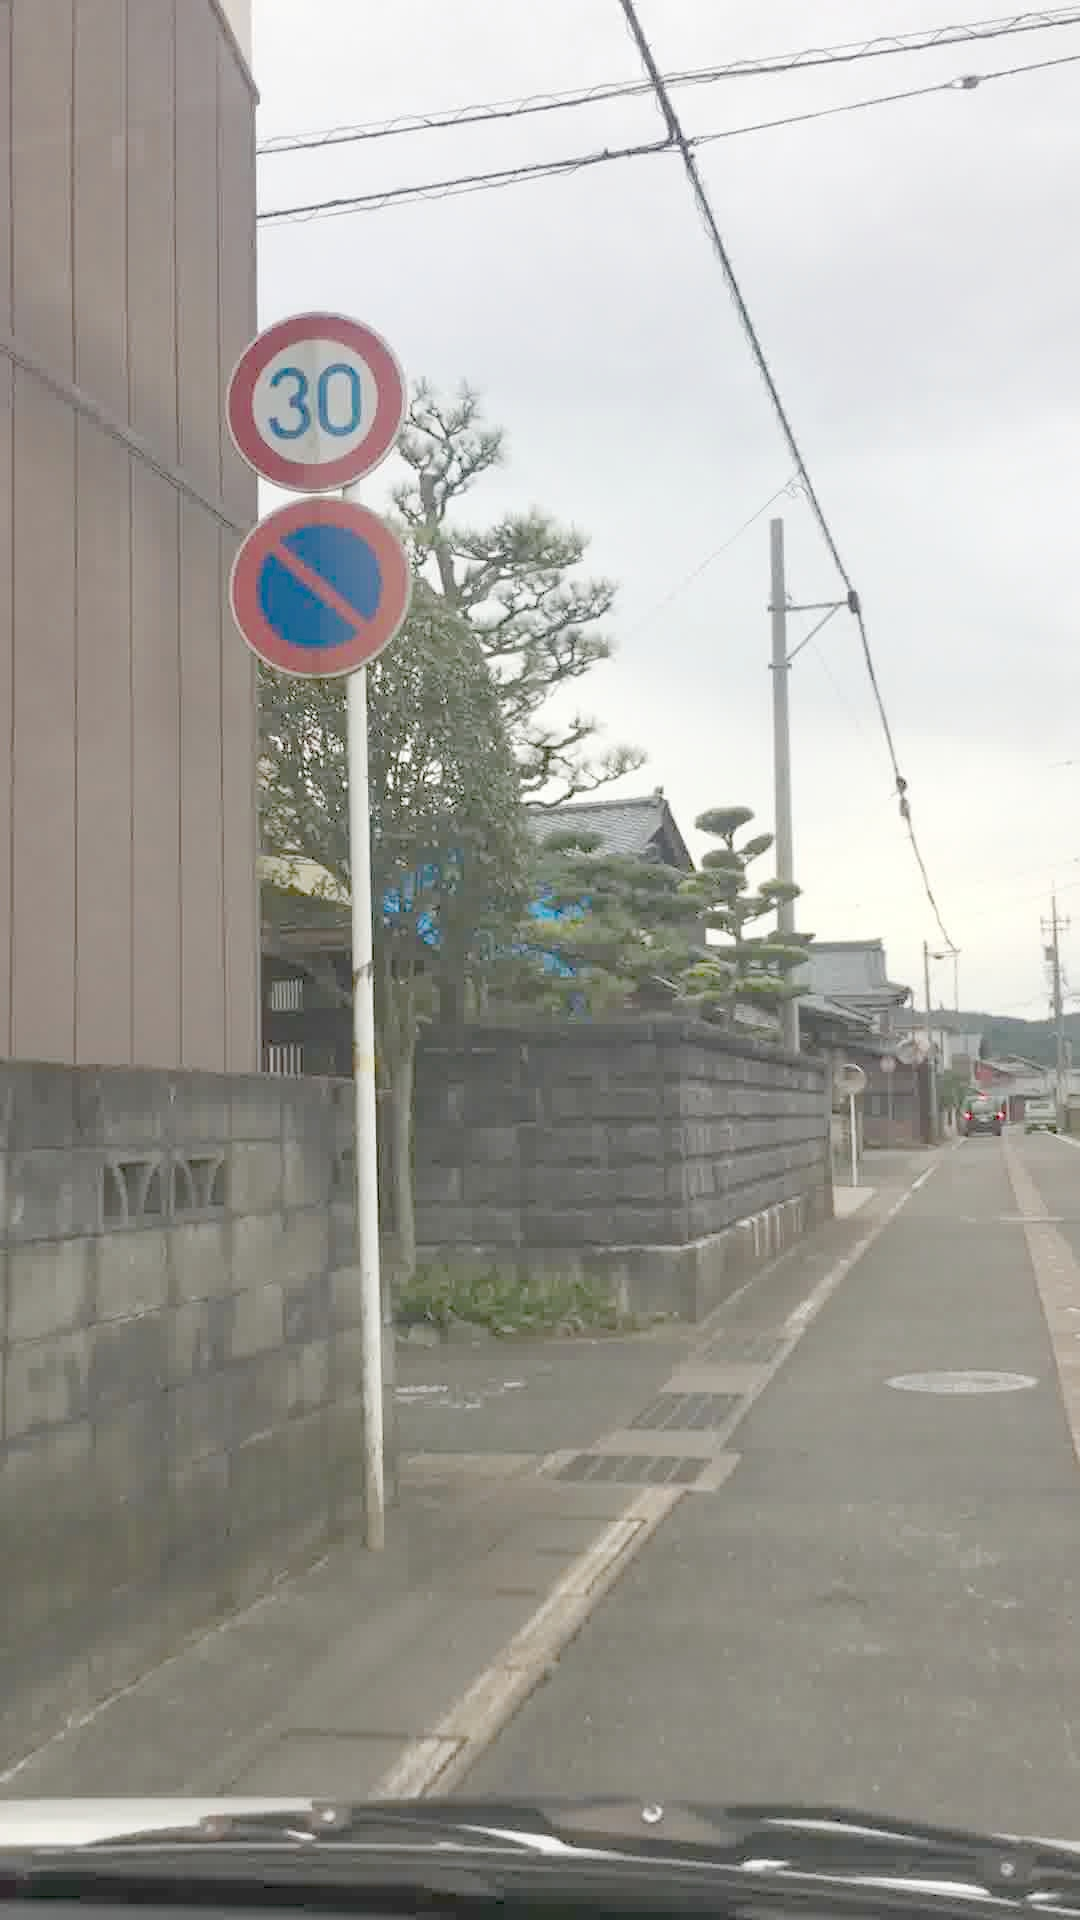Prohibition_sign: (218, 483, 438, 696)
Speed_sign: (216, 313, 436, 504)
